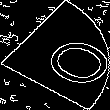O_NW: (8, 22, 102, 88)
